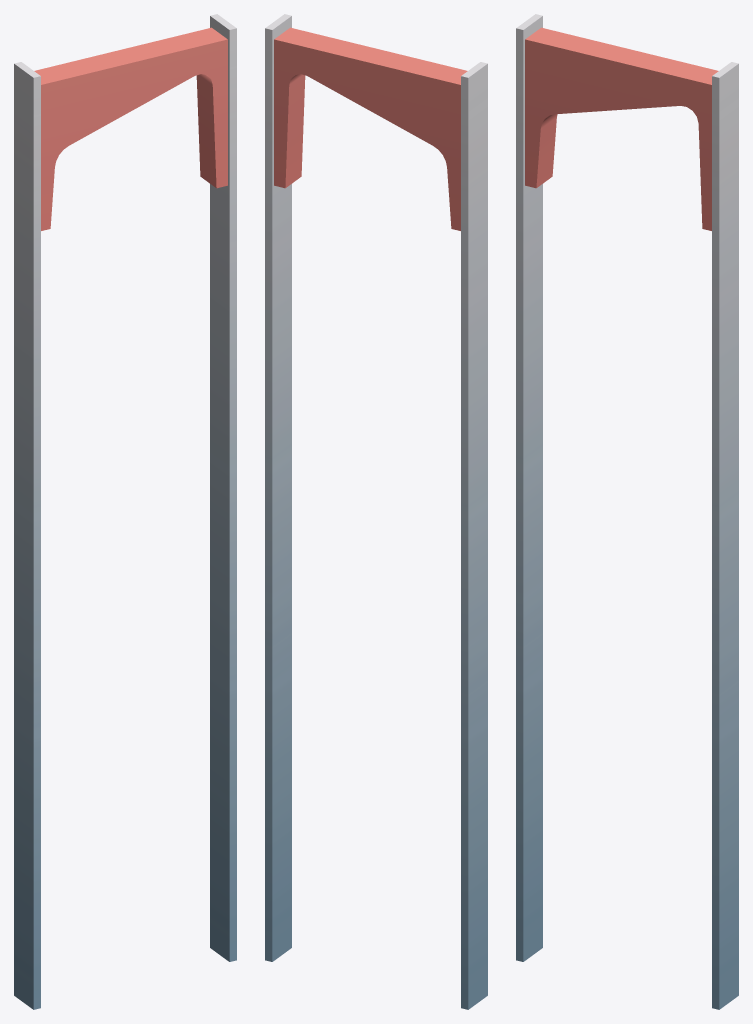
The model's file is Obstacle_4.fbx.
3 renders of one model, left to right at view 1: azimuth 30°, elevation 25°; view 2: azimuth 150°, elevation 25°; view 3: azimuth 330°, elevation 25°, orthographic.
Visible parts, largest first — view 1: Obstacle_4; view 2: Obstacle_4; view 3: Obstacle_4.
Part boxes in pixels (left/top/right/bottom): Obstacle_4: left=14, top=14, right=236, bottom=1009; Obstacle_4: left=265, top=14, right=487, bottom=1009; Obstacle_4: left=516, top=14, right=738, bottom=1009.
Bounding box in the file's own units: 862 × 3778 × 144.
